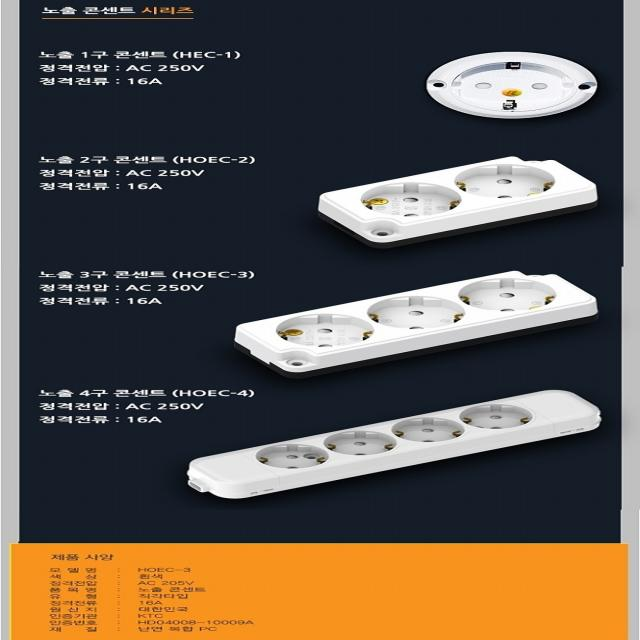typeb: (89, 382, 640, 509), (222, 264, 617, 374), (308, 141, 629, 236), (400, 17, 640, 127)
